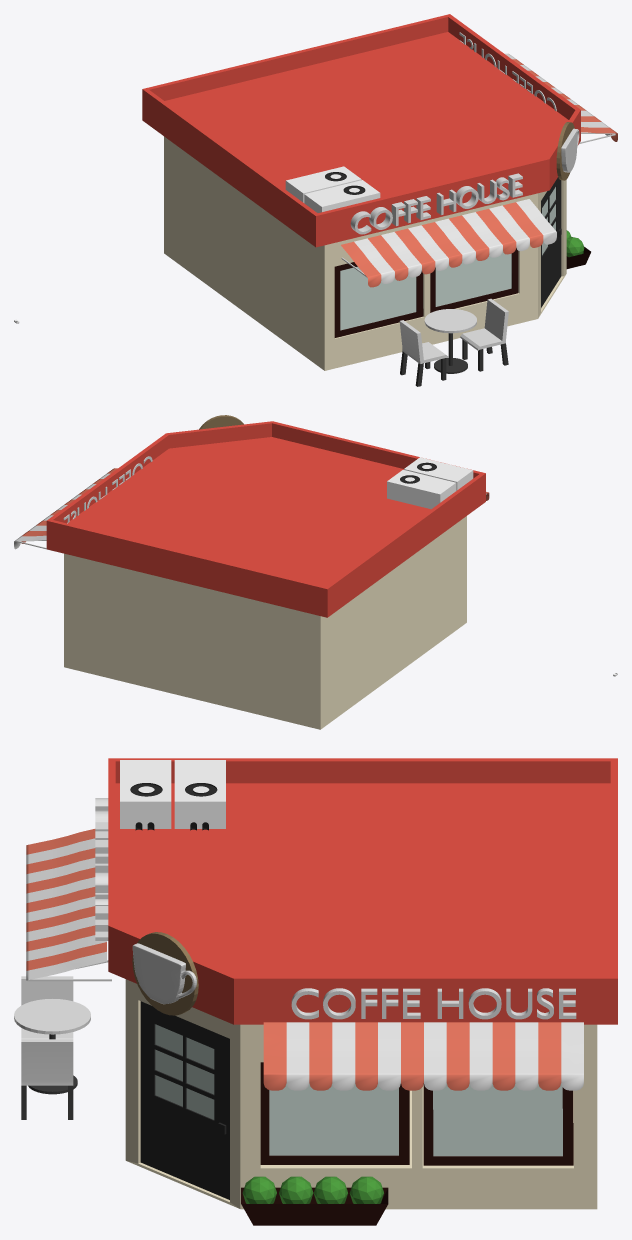
Rendered from envirnment6.fbx.
3 renders of one model, top to bottom at view 1: azimuth 30°, elevation 25°; view 2: azimuth 150°, elevation 25°; view 3: azimuth 270°, elevation 25°, orthographic. The views are drawn at different scales.
Parts seen in each view (by area): view 1: Cube.086; view 2: Cube.086; view 3: Cube.086.
Part boxes in pixels (x1,y1,x2,y2): Cube.086: [142, 14, 617, 386]; Cube.086: [14, 415, 489, 729]; Cube.086: [14, 758, 617, 1225].
Size of the model in its own units: 10339 by 3048 by 6385.
